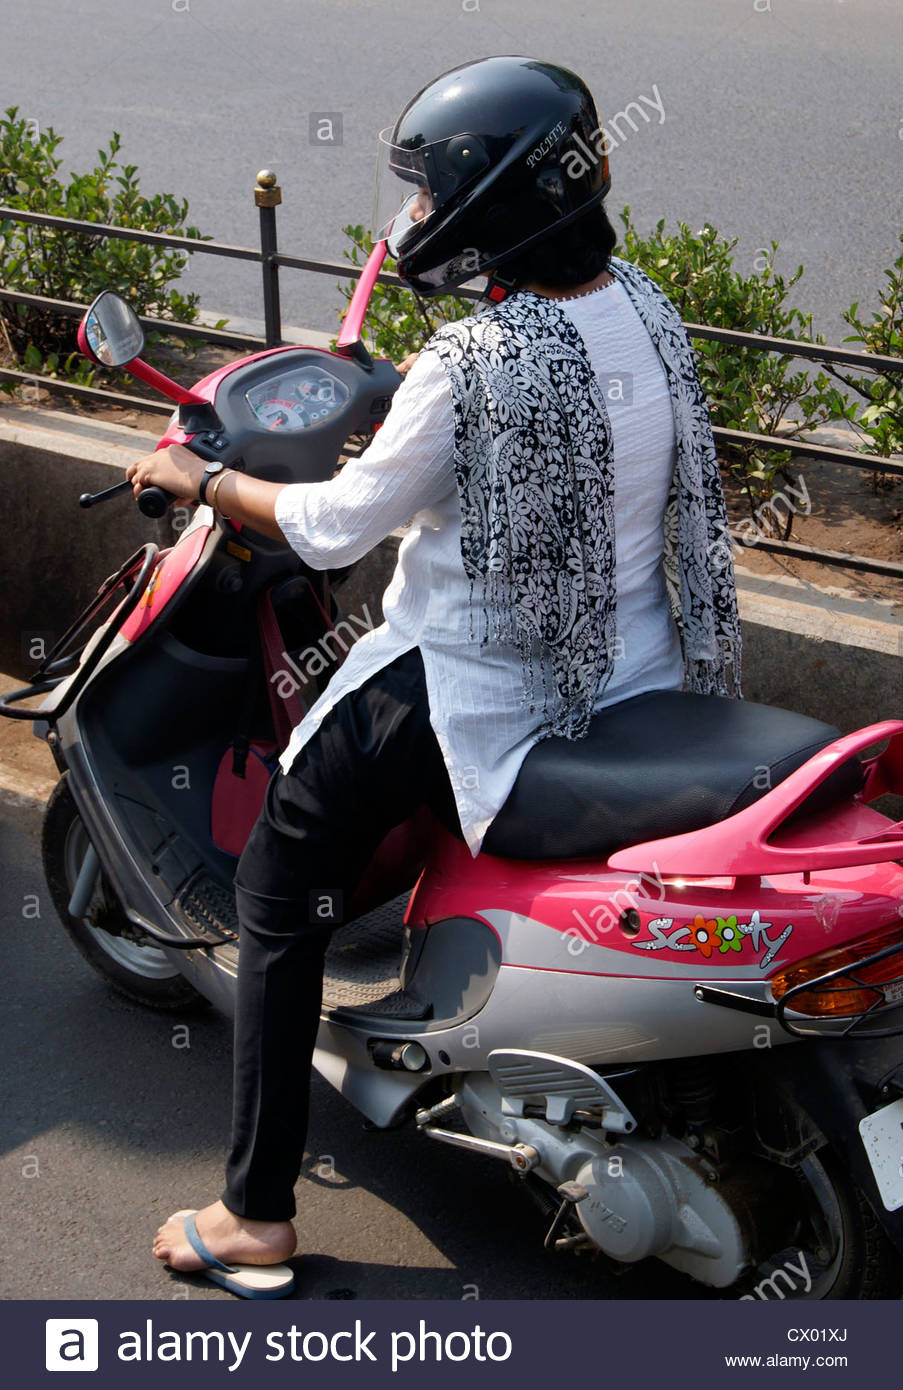helmet: (366, 45, 713, 326)
